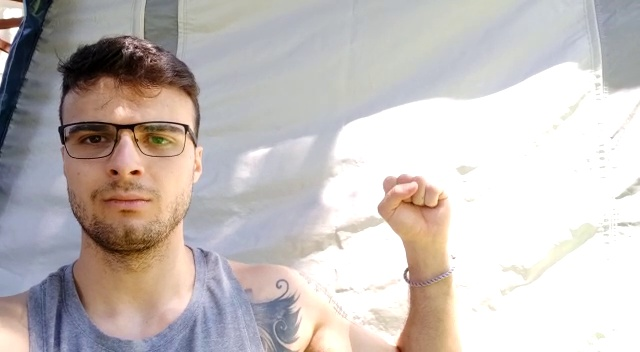Fist: (377, 174, 453, 241)
